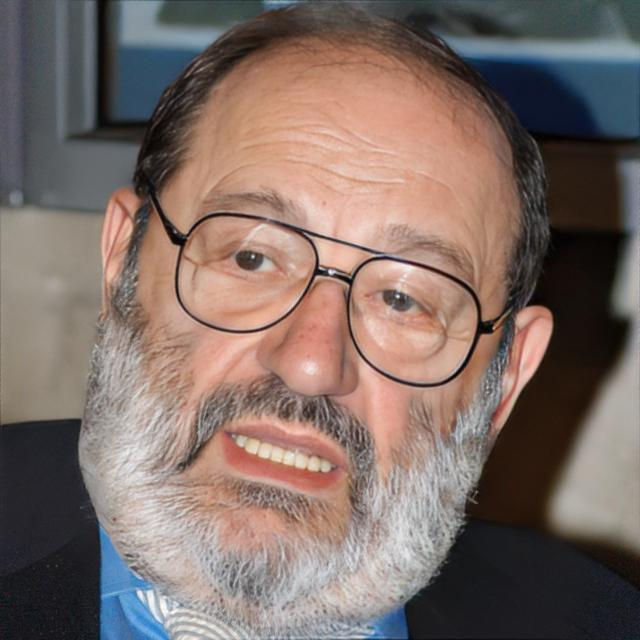disgust: (133, 110, 496, 617)
